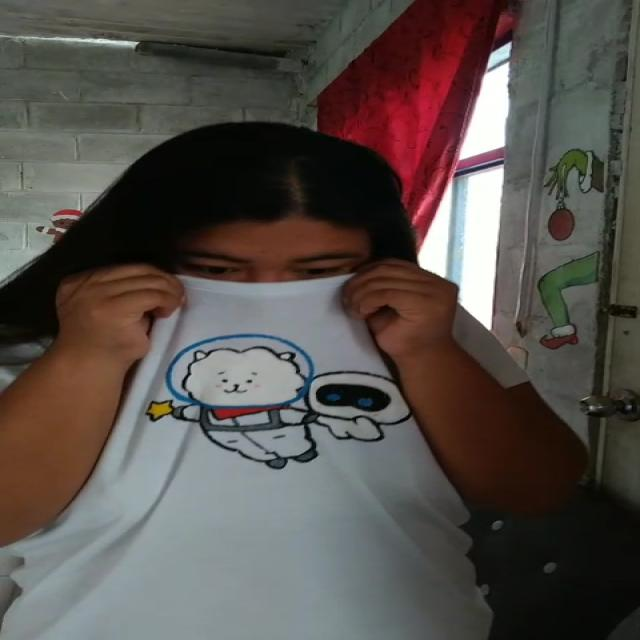8_ropa_rostro: (76, 262, 436, 464)
